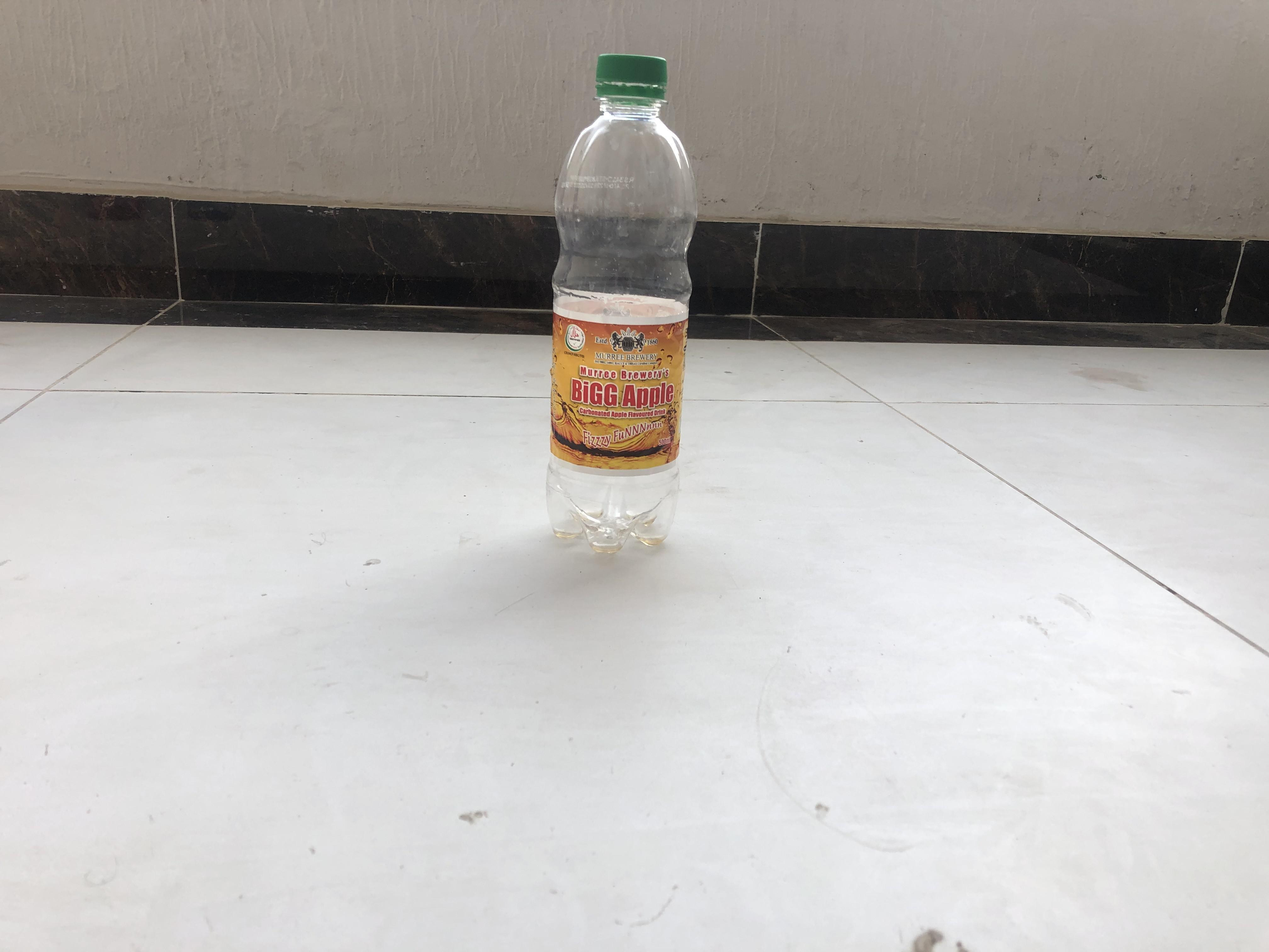bottle-plastic: (547, 48, 694, 558)
